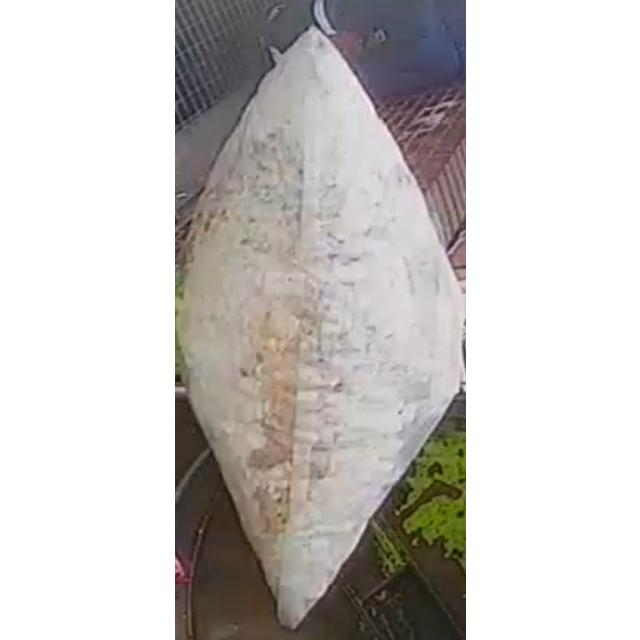other_trashbag: (179, 28, 464, 628)
